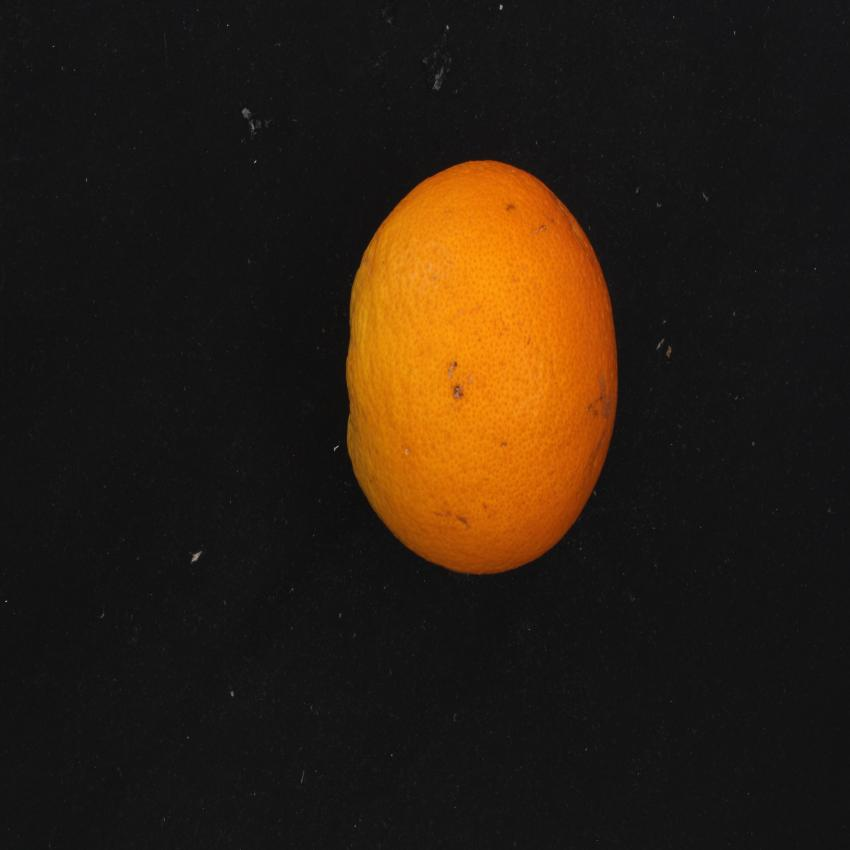Buen estado: (331, 155, 658, 593)
